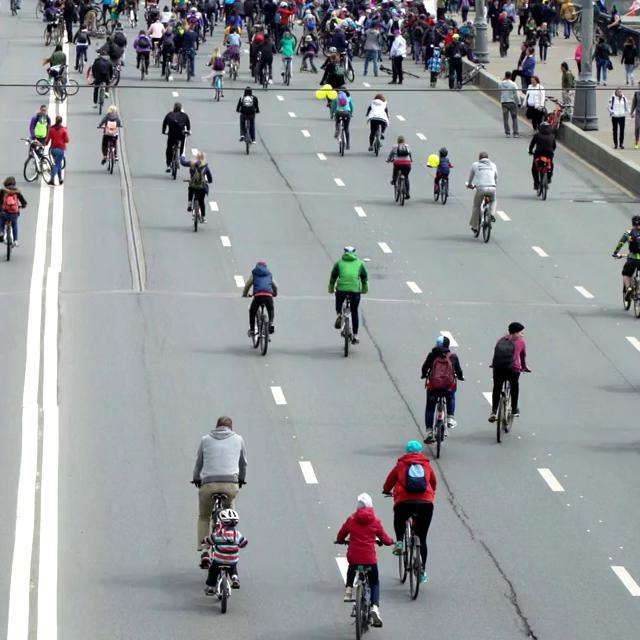bicycle: (189, 479, 247, 613), (333, 538, 390, 639), (381, 491, 426, 600), (421, 374, 463, 459), (488, 364, 529, 443), (465, 183, 496, 242), (246, 294, 275, 355), (333, 292, 360, 357), (612, 253, 639, 318), (35, 64, 79, 101), (203, 561, 234, 613), (20, 137, 54, 184), (0, 205, 26, 261), (182, 179, 209, 232), (165, 130, 190, 180), (544, 96, 573, 136), (97, 126, 120, 174), (426, 163, 452, 205), (532, 155, 552, 200), (91, 78, 115, 115), (390, 164, 411, 206), (333, 112, 351, 156), (238, 115, 256, 154), (366, 118, 384, 157), (459, 62, 486, 86)
